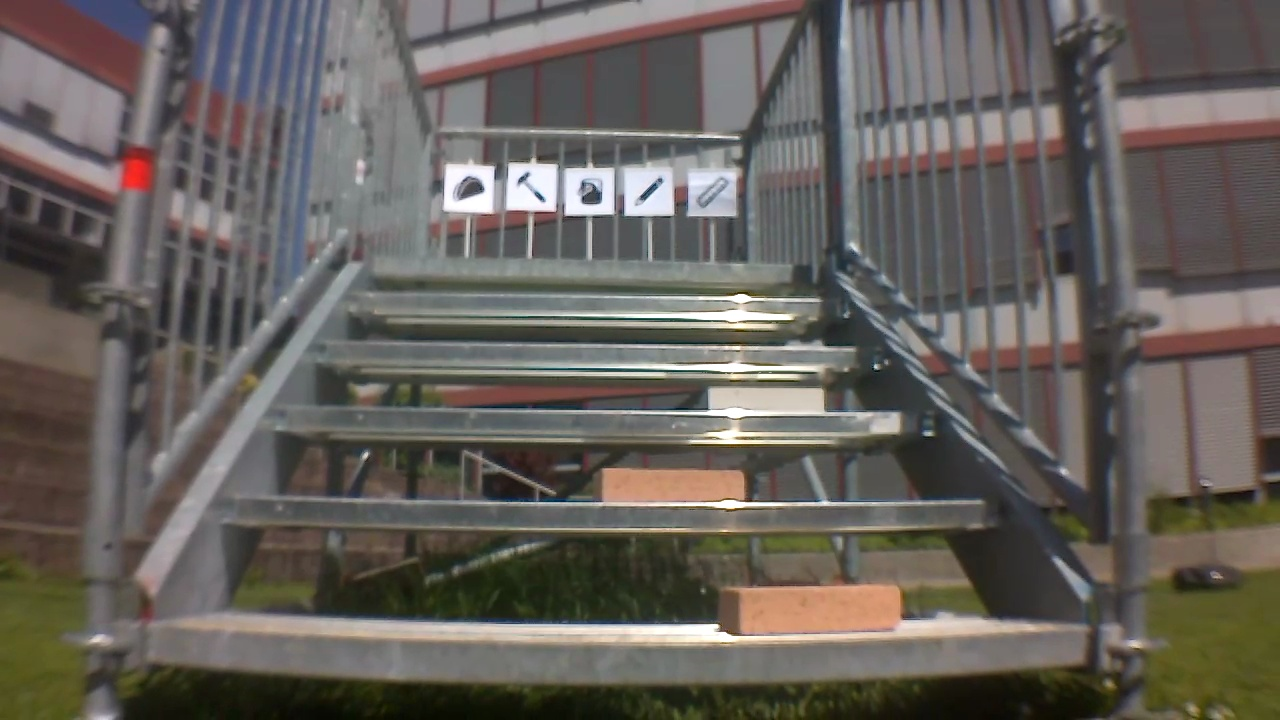brick: (718, 581, 900, 639), (589, 465, 741, 501), (704, 383, 825, 416)
bucket: (573, 176, 605, 205)
edge: (146, 620, 1100, 671), (223, 500, 1005, 533), (276, 406, 942, 441), (306, 343, 894, 366), (369, 256, 810, 284), (345, 294, 852, 315)
hammer: (514, 172, 544, 205)
pencil: (630, 174, 670, 206)
ruler: (693, 177, 731, 210)
stairs: (88, 0, 1125, 705)
steps: (132, 266, 1091, 673)
taco: (457, 173, 483, 200)
